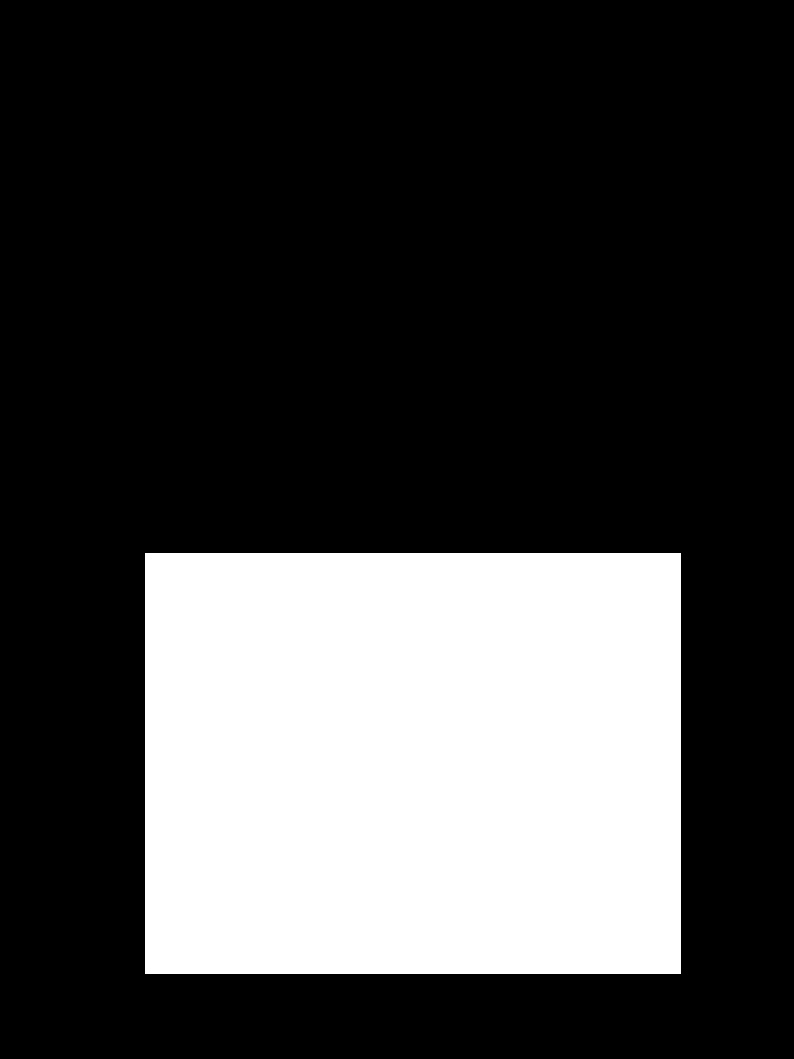table: (145, 553, 680, 973)
